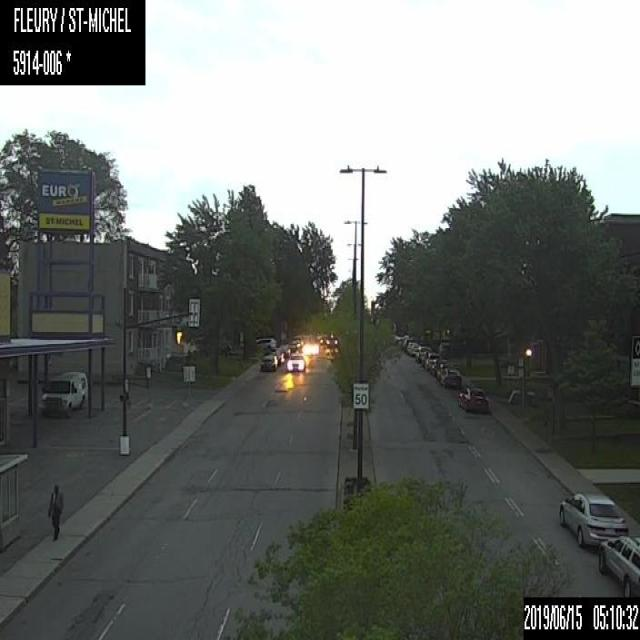pedestrian: (46, 481, 63, 540)
vehicle: (559, 492, 628, 550), (598, 535, 639, 593), (41, 370, 87, 416), (458, 385, 489, 411), (440, 367, 461, 387), (286, 352, 306, 372), (261, 353, 277, 371), (414, 345, 430, 362), (269, 347, 284, 364), (255, 337, 275, 349), (406, 341, 418, 355), (278, 343, 290, 356), (436, 362, 444, 379)
